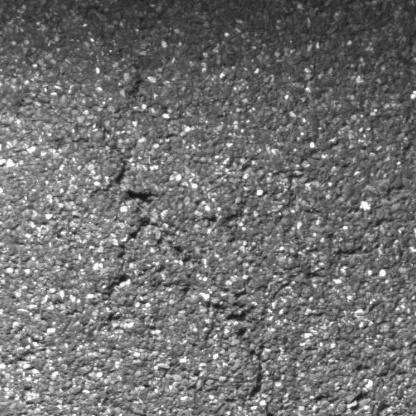Cracks: (102, 163, 199, 304), (243, 340, 272, 405)
